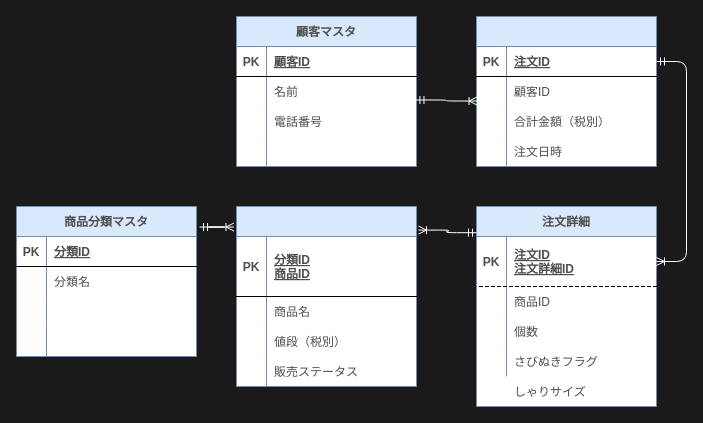
The diagram is 703 pixels wide and 423 high, and some of its shapes have lost their labels. The shapes that lost their labels are listed below. From the top down, each one's box as (x1, y1, x2, y2) in pixels, then its label:
(476, 16, 656, 166): 注文履歴
(236, 206, 416, 386): 商品マスタ
